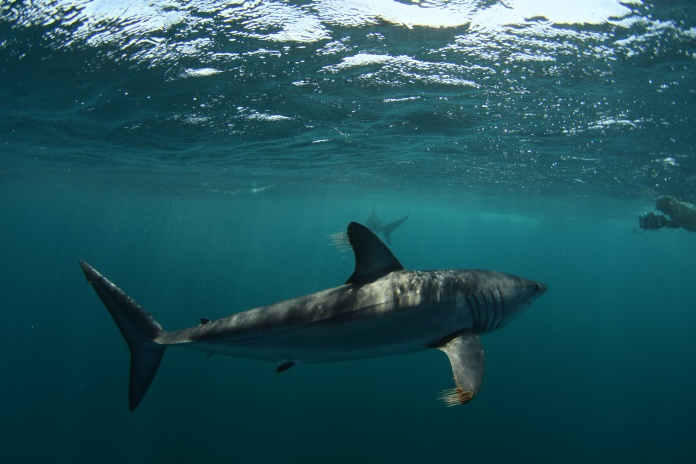Mako: (59, 221, 563, 422)
